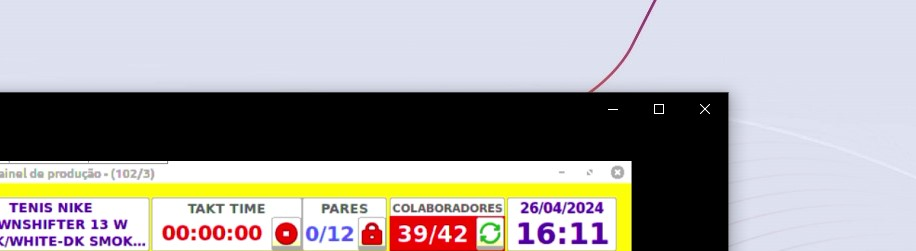takt_time: (153, 200, 271, 248)
